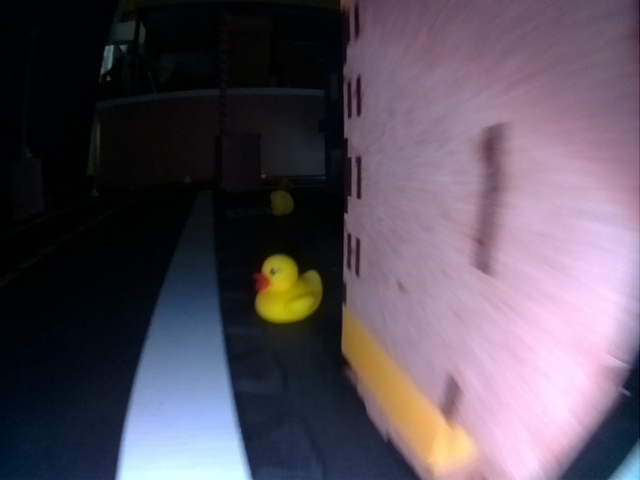Duckie: (254, 258, 318, 322), (269, 190, 294, 215)
